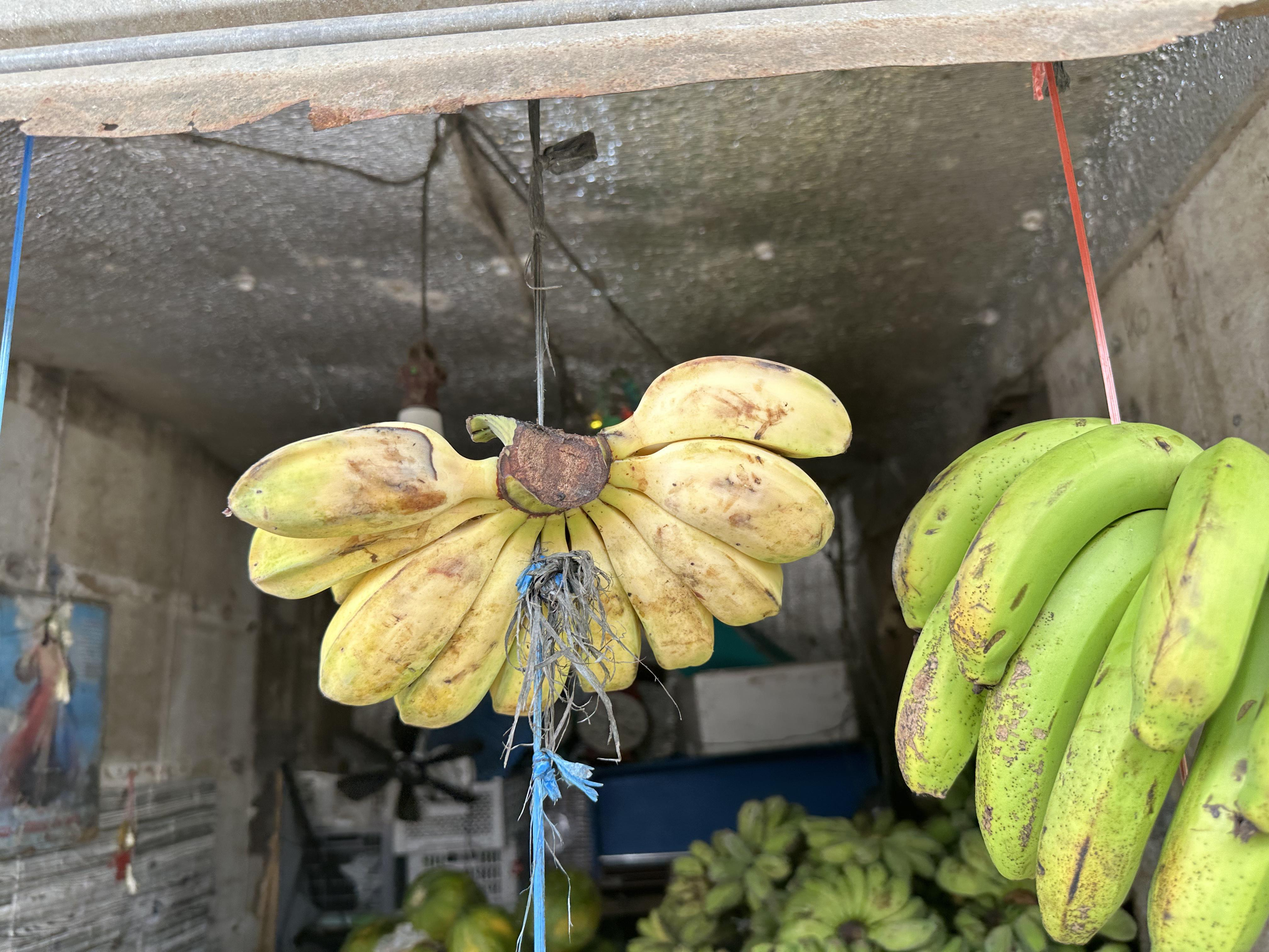underripe: (227, 422, 530, 729), (603, 355, 853, 670)
